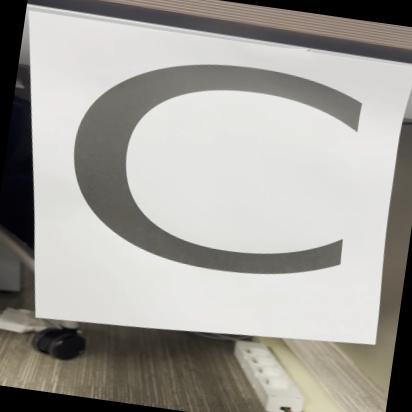seat: (0, 6, 412, 359)
